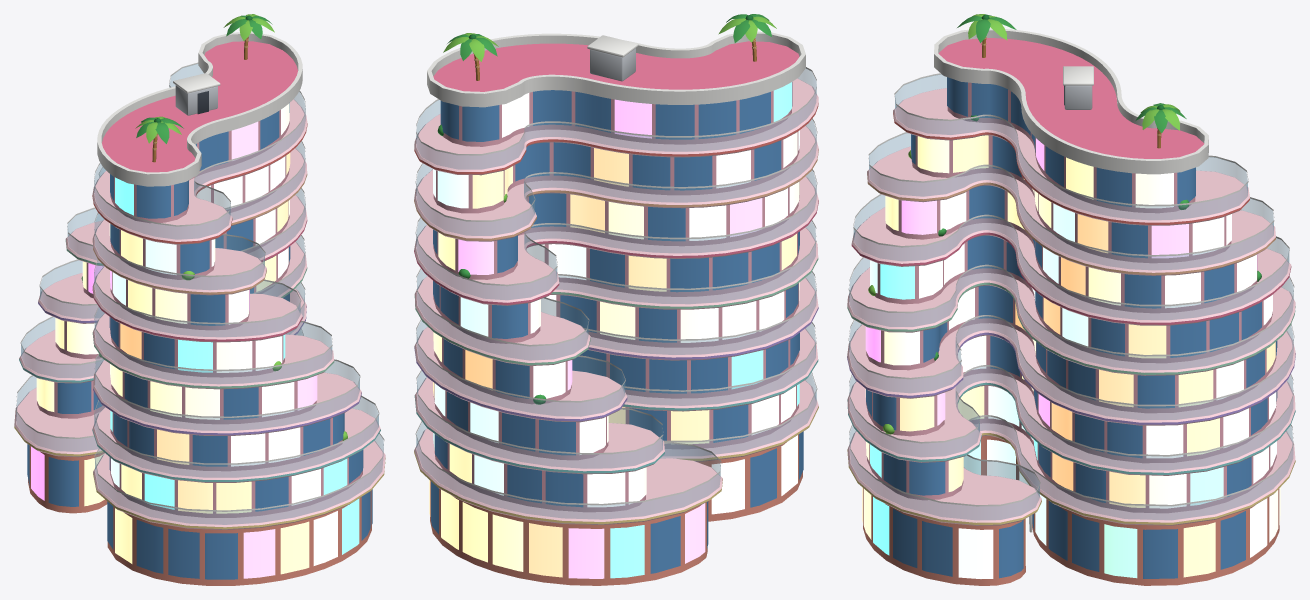
File: predio_s_rosa.glb
3 views of the same model, side by side, from view 1: azimuth 30°, elevation 25°; view 2: azimuth 150°, elevation 25°; view 3: azimuth 270°, elevation 25° (orthographic). The views are drawn at different scales.
Parts seen in each view (by area): view 1: predio_s_rosa; view 2: predio_s_rosa; view 3: predio_s_rosa.
Part boxes in pixels (box(x1,y1,x2,y2)): predio_s_rosa: box(14, 14, 385, 585); predio_s_rosa: box(414, 14, 818, 585); predio_s_rosa: box(847, 14, 1295, 585).
Bounding box in the file's own units: 18.79 × 29.79 × 25.99.
9 materials, 1 textured.
